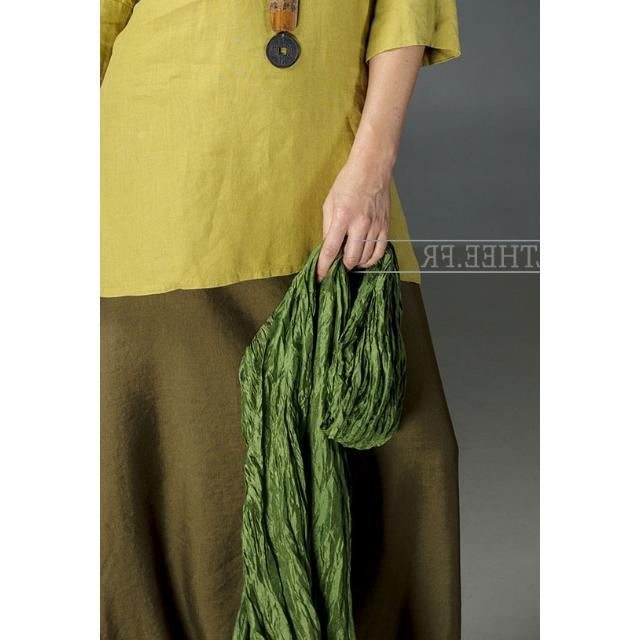linen: (100, 73, 290, 267)
